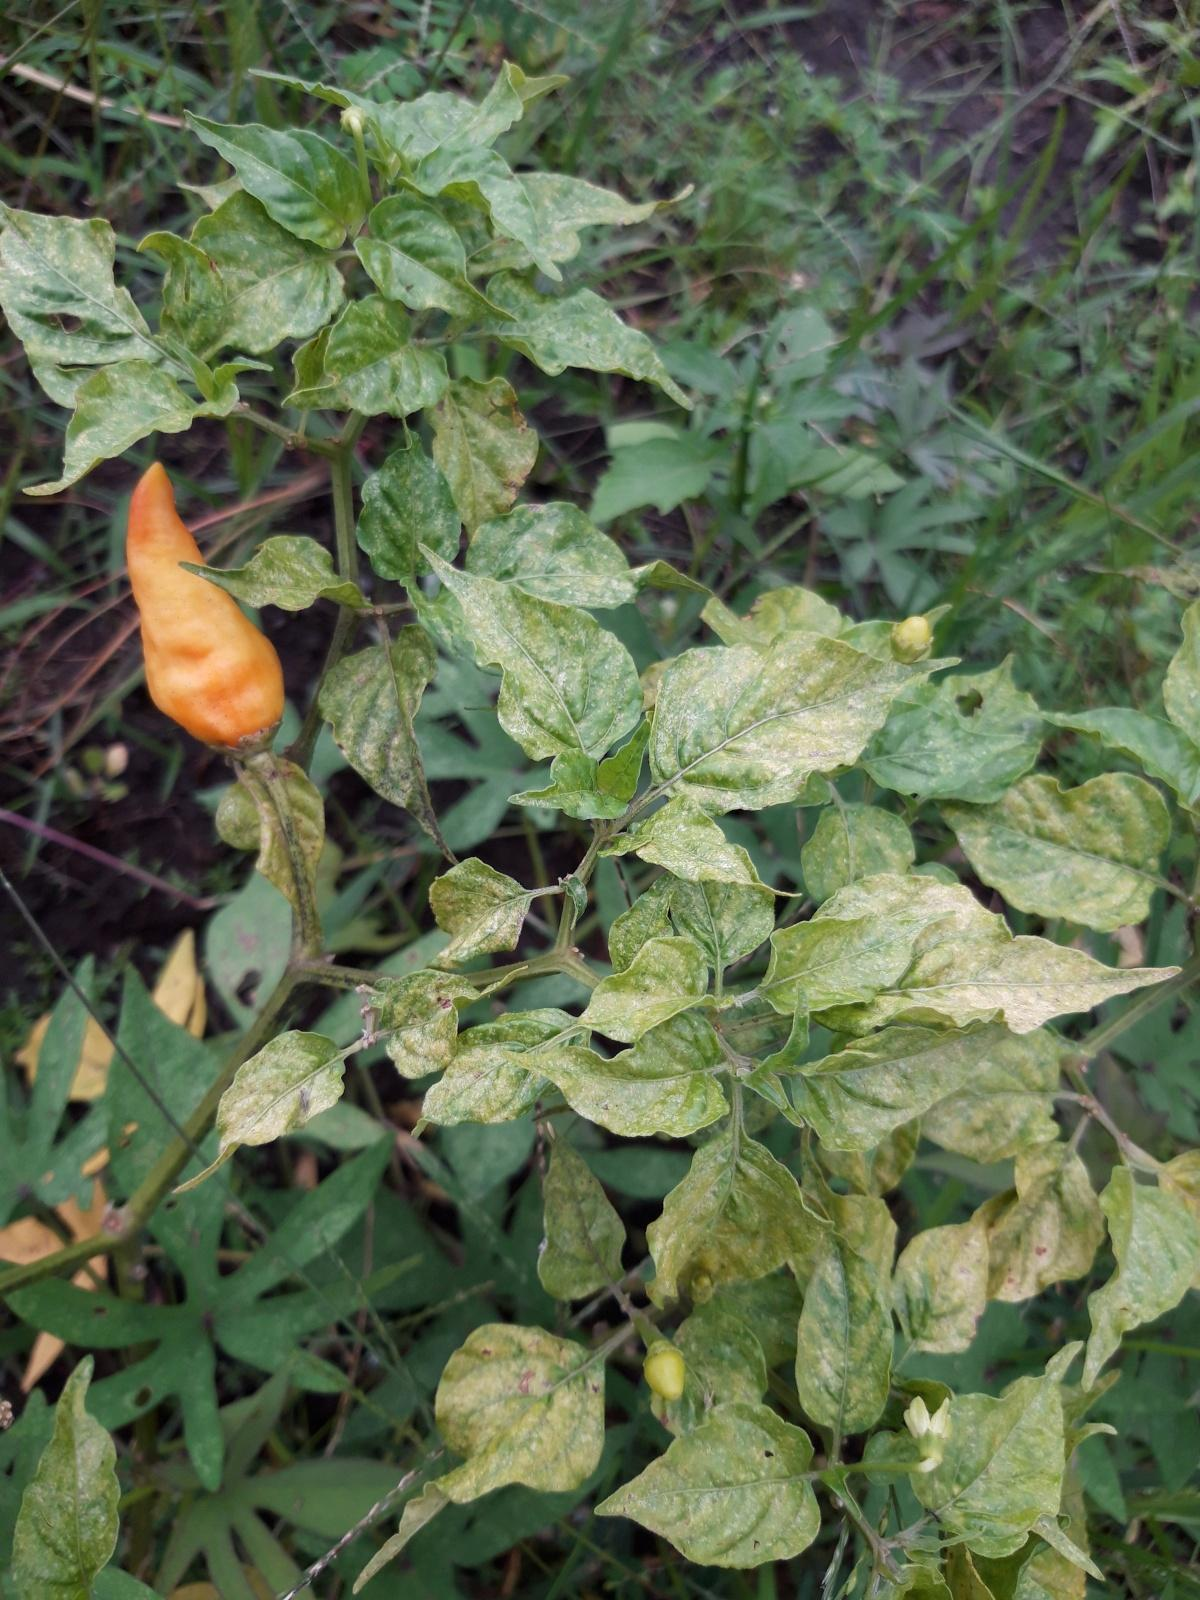cabai_normal: (124, 462, 287, 741)
